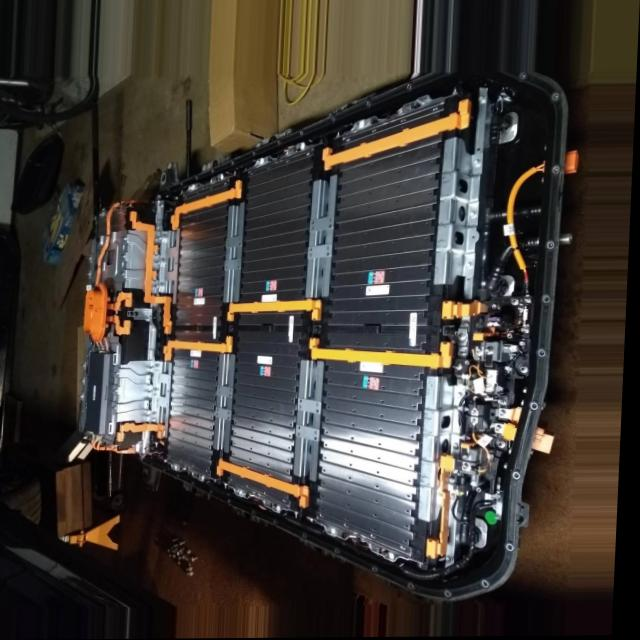Aluminum-frame: (424, 378, 460, 520), (437, 139, 471, 284), (296, 353, 328, 482), (309, 173, 337, 298), (217, 353, 238, 454), (122, 361, 155, 420), (226, 203, 245, 302), (126, 232, 150, 289), (155, 363, 174, 425)
Battery Module: (332, 141, 439, 350), (320, 362, 424, 558), (233, 330, 303, 506), (241, 152, 312, 325), (179, 205, 228, 342), (172, 352, 222, 478)
Bolt: (497, 408, 511, 437), (477, 343, 499, 357), (463, 451, 476, 474), (454, 389, 467, 405), (477, 92, 489, 108), (465, 259, 476, 272), (453, 441, 464, 453), (473, 158, 482, 169), (469, 210, 480, 219), (453, 490, 460, 502), (449, 556, 458, 564), (494, 304, 501, 311), (510, 333, 516, 339)
Bus-bar: (324, 101, 470, 168), (132, 212, 174, 333), (312, 338, 453, 371), (222, 460, 312, 506), (172, 181, 242, 232), (435, 456, 460, 558), (230, 301, 322, 322), (167, 336, 234, 361), (122, 423, 167, 442), (445, 301, 485, 319), (109, 314, 134, 335), (110, 293, 135, 311)
Cable: (97, 198, 133, 279)
Nut: (510, 293, 535, 307), (499, 441, 511, 453), (455, 361, 466, 374), (459, 332, 468, 343), (118, 268, 127, 278), (121, 233, 130, 243), (521, 365, 531, 373), (159, 256, 166, 267), (159, 233, 165, 244), (121, 251, 127, 261), (162, 280, 167, 291), (524, 326, 531, 333)
